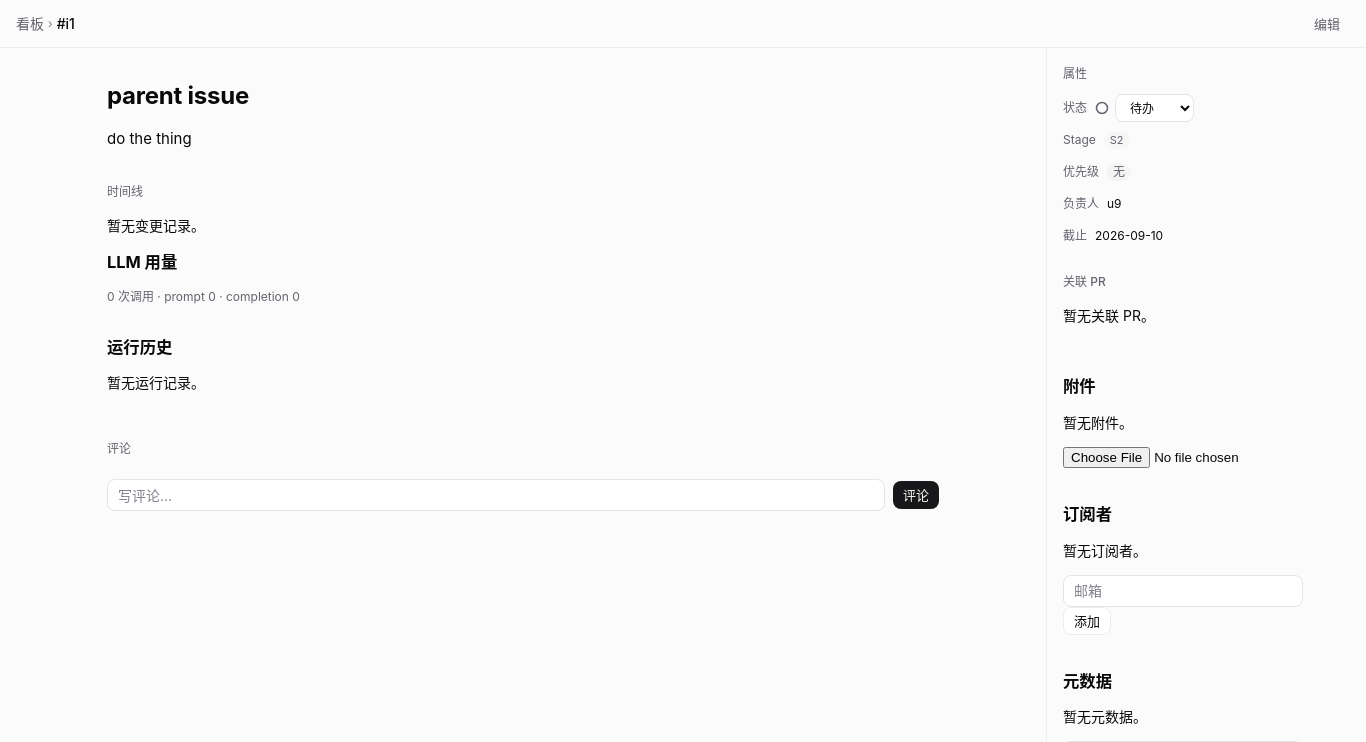
Test: IssueDetailPage › shows an error when adding a subscriber fails
In the field with test id "subscriber-email": (1183, 590) [1063,574,1303,606], type "ghost@example.com"
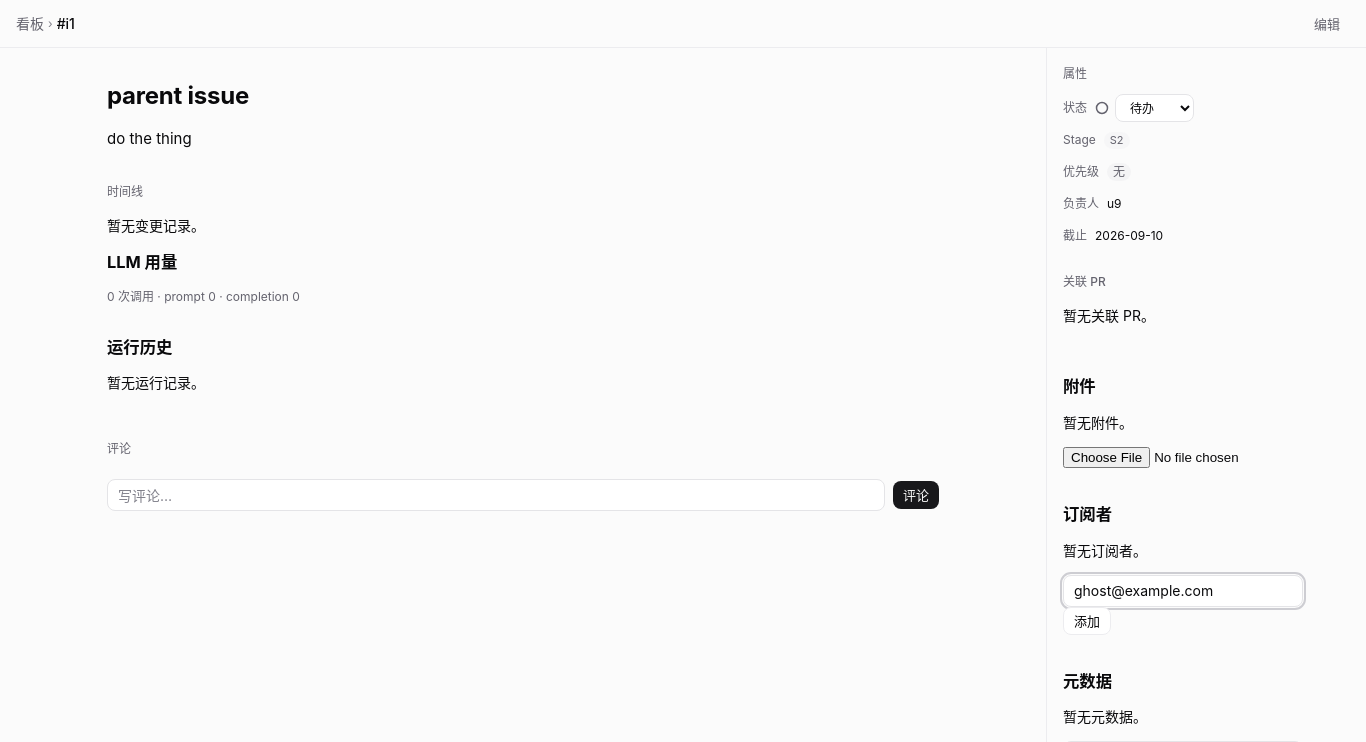
Click the button with test id "subscriber-add": click(1087, 620) [1063,606,1111,634]
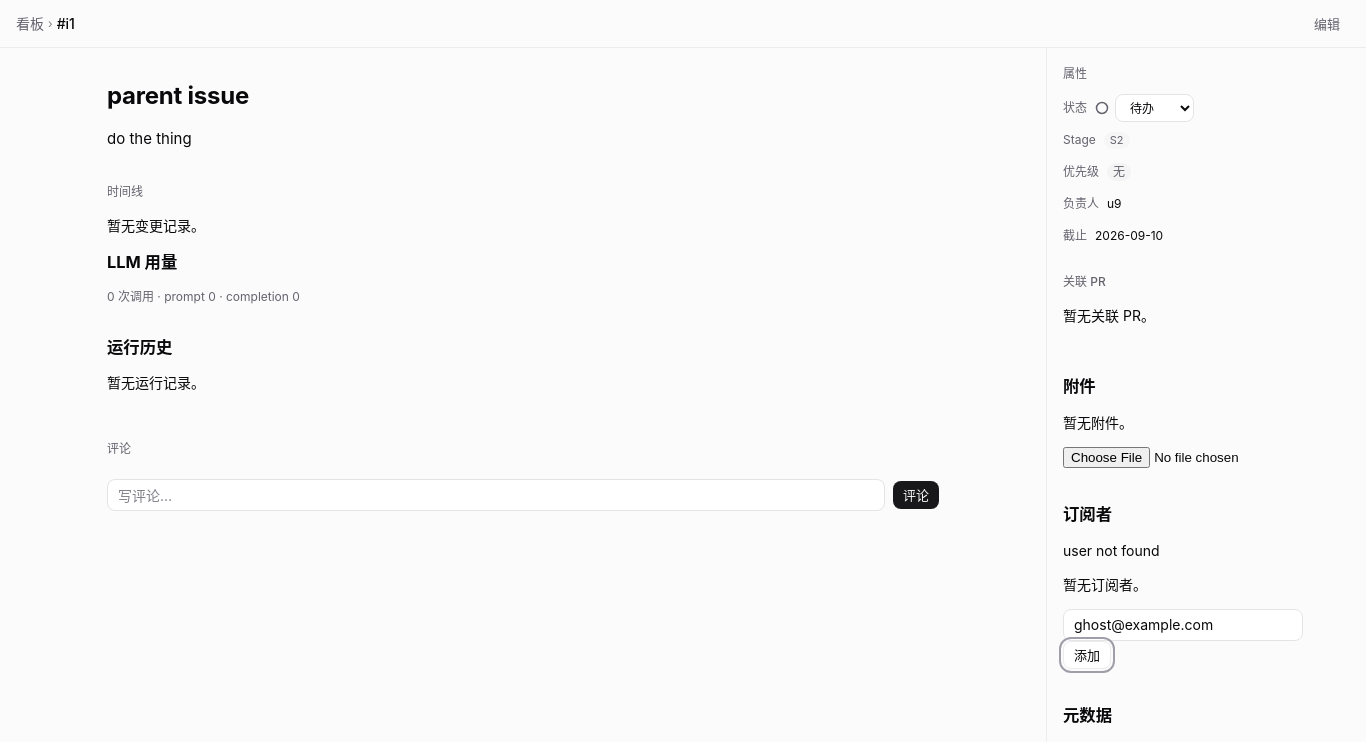
Now the message reads "user not found", box [1063,542,1160,558]
